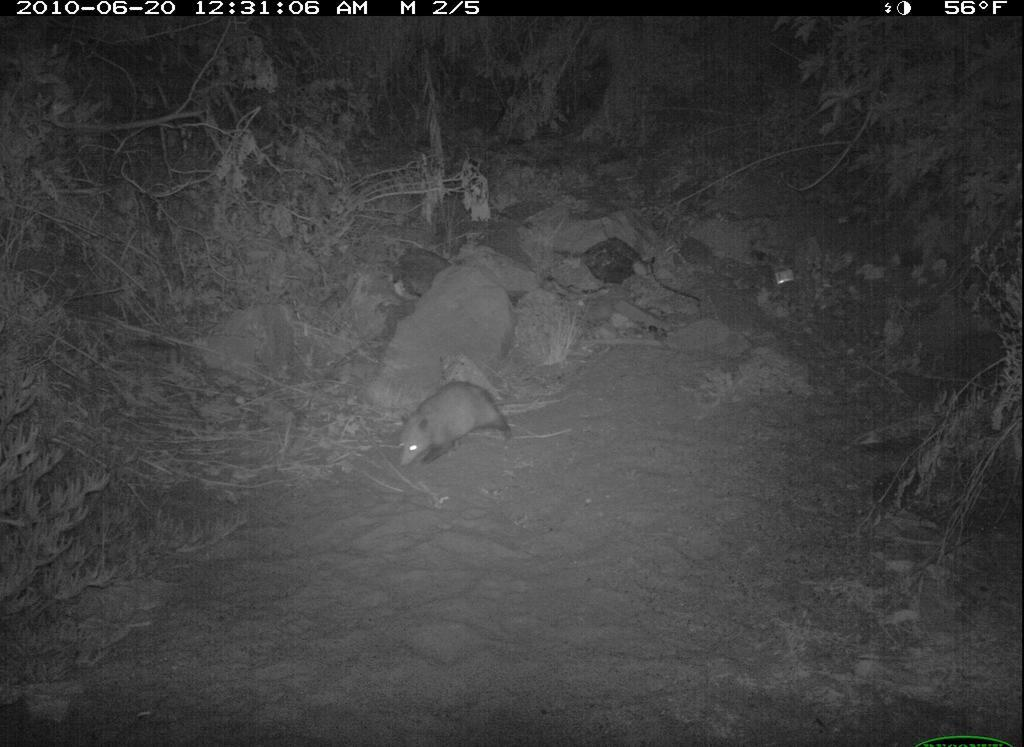opossum: (365, 382, 534, 474)
